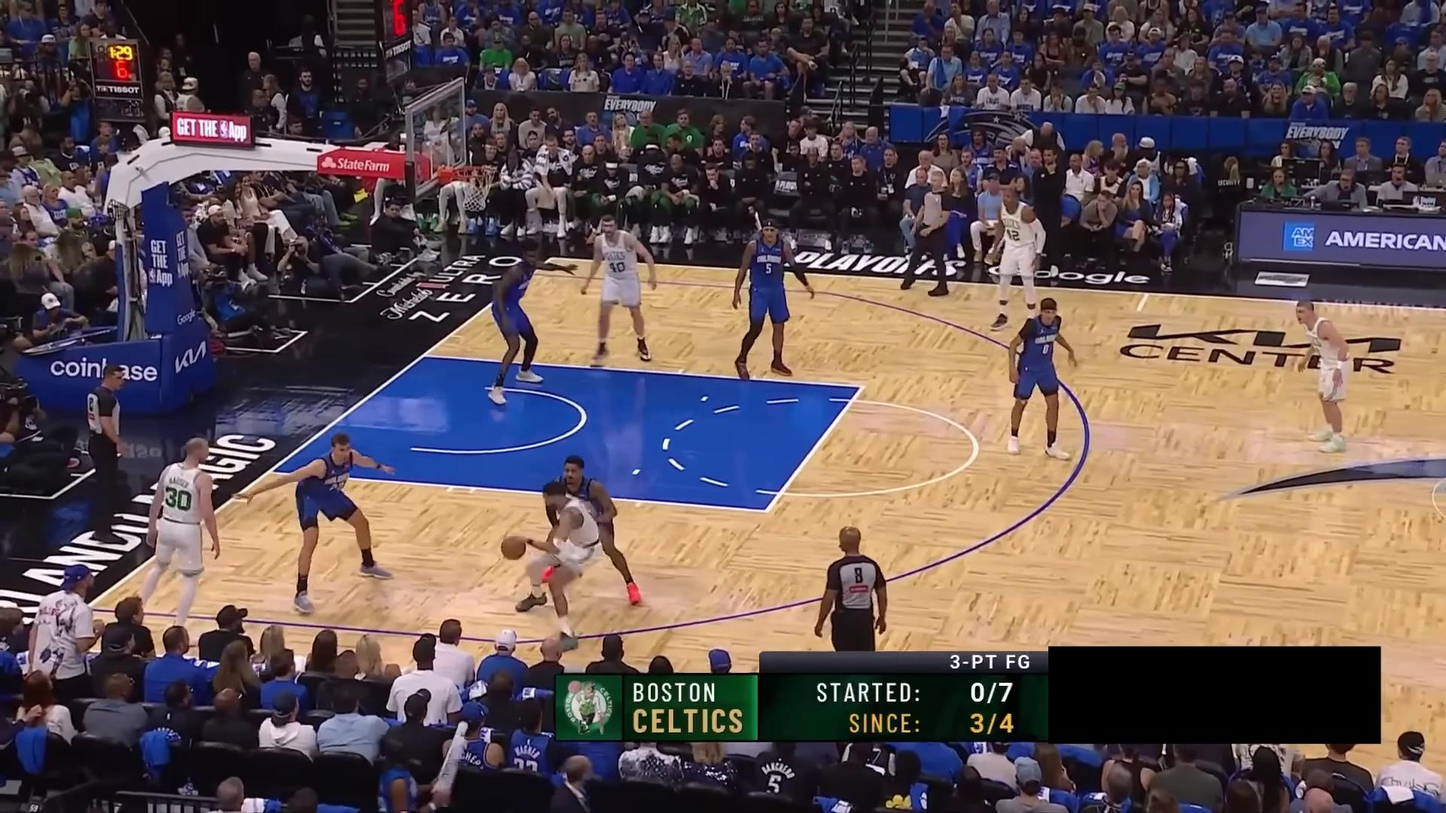ball: (501, 535, 527, 562)
number: (164, 485, 192, 513), (608, 260, 626, 274), (1006, 228, 1021, 242), (765, 262, 773, 274), (1042, 344, 1049, 355)
player: (234, 434, 398, 613), (131, 432, 225, 632), (538, 451, 645, 610), (572, 202, 660, 383), (486, 235, 578, 402), (732, 217, 816, 383), (1006, 292, 1078, 461), (1293, 295, 1364, 457), (992, 183, 1050, 334)
player-in-possession: (498, 481, 604, 654)
referee: (811, 521, 895, 649), (84, 361, 132, 551), (899, 169, 962, 301)
rim: (453, 163, 499, 179)
